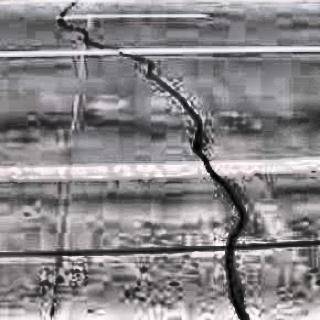crack: (55, 0, 256, 320)
